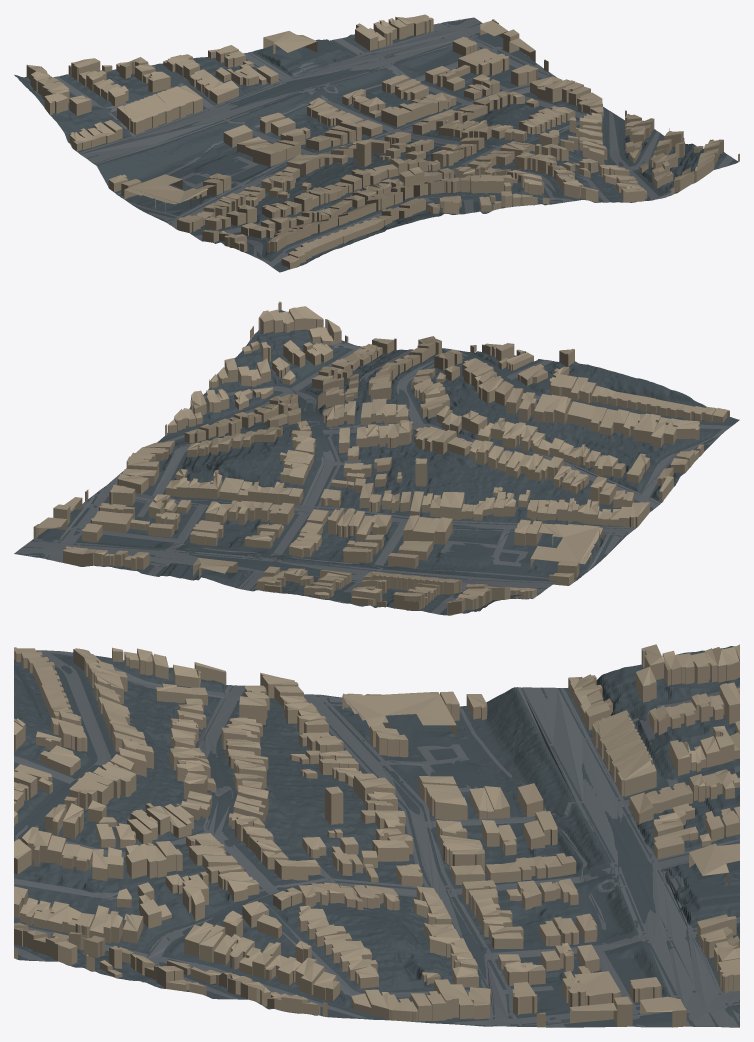
Rendered from epsg26910-1431-10876.lod0.glb.
3 views of the same model, one above another, from view 1: azimuth 30°, elevation 25°; view 2: azimuth 150°, elevation 25°; view 3: azimuth 270°, elevation 25° (orthographic). The views are drawn at different scales.
Parts seen in each view (by area): view 1: epsg26910-1431-10876-lod0; view 2: epsg26910-1431-10876-lod0; view 3: epsg26910-1431-10876-lod0.
Boxes of the visible parts, x1,y1,x2,y2 form: epsg26910-1431-10876-lod0: [14, 14, 739, 272]; epsg26910-1431-10876-lod0: [14, 301, 739, 615]; epsg26910-1431-10876-lod0: [14, 644, 739, 1027].
Size of the model in its own units: 384 by 67.13 by 384.
